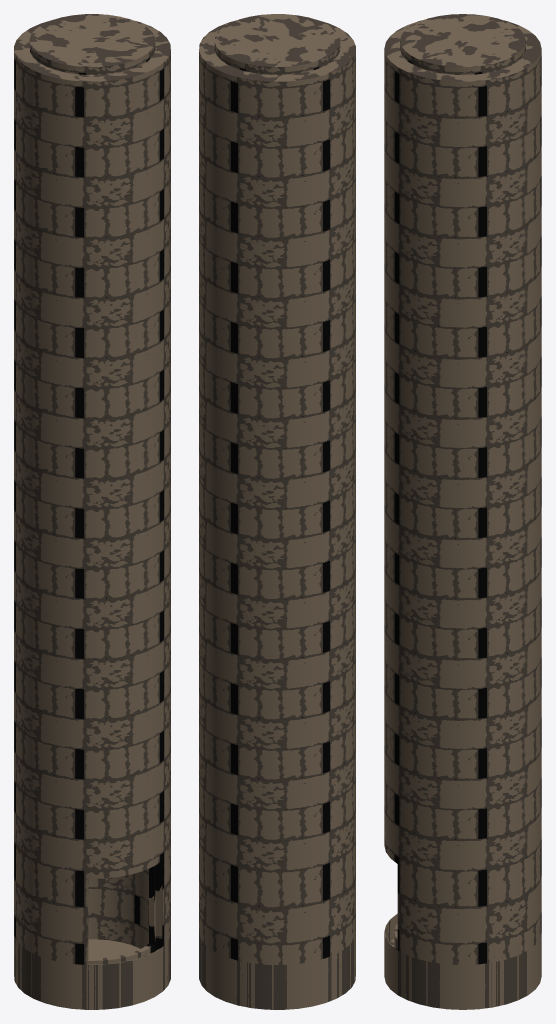
Rendered from uiii.fbx.
3 views of the same model, side by side, from view 1: azimuth 30°, elevation 25°; view 2: azimuth 150°, elevation 25°; view 3: azimuth 270°, elevation 25° (orthographic).
Visible parts, largest first — view 1: sanctum; view 2: sanctum; view 3: sanctum.
Part boxes in pixels (x1=…): sanctum: x1=14, y1=14, x2=170, y2=1009; sanctum: x1=199, y1=14, x2=355, y2=1009; sanctum: x1=384, y1=14, x2=541, y2=1009.
Size of the model in its own units: 652 by 4282 by 652.
